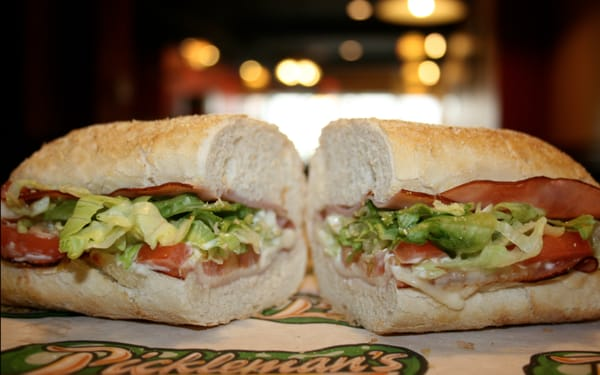soup: (0, 113, 311, 330), (305, 118, 600, 334)
